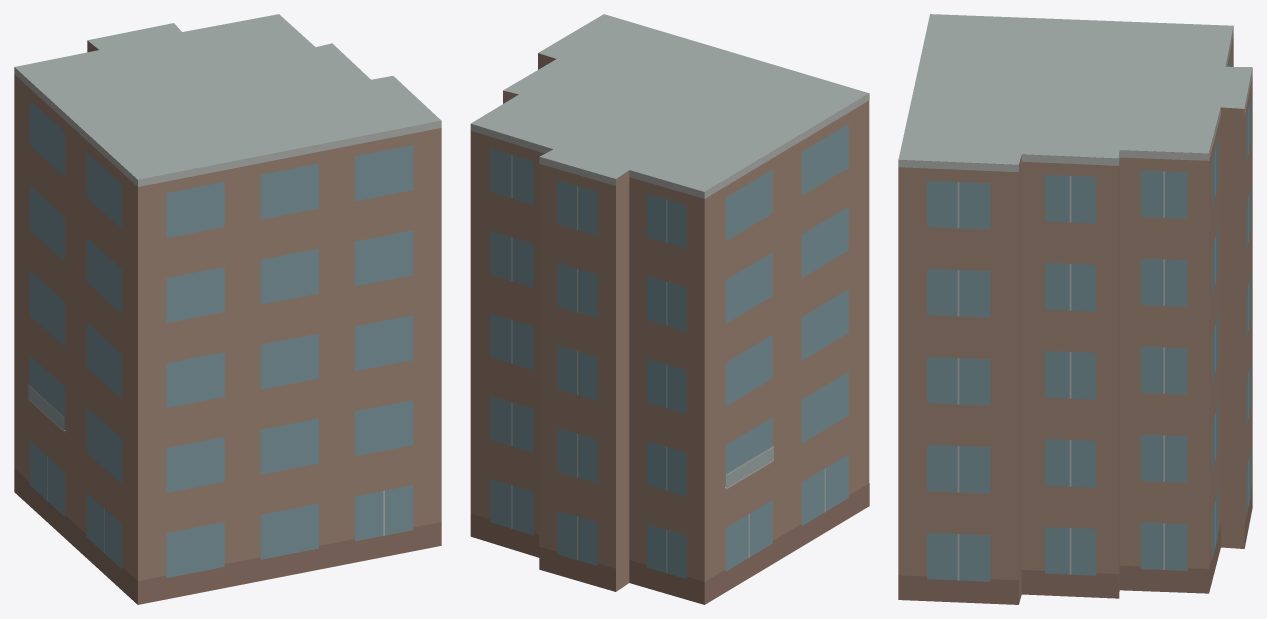
File: survey-upis-32806557.glb
3 views of the same model, side by side, from view 1: azimuth 30°, elevation 25°; view 2: azimuth 150°, elevation 25°; view 3: azimuth 270°, elevation 25° (orthographic). The views are drawn at different scales.
Parts seen in each view (by area): view 1: survey-upis-32806557.tmp; view 2: survey-upis-32806557.tmp; view 3: survey-upis-32806557.tmp.
Part boxes in pixels (left/top/right/bottom): survey-upis-32806557.tmp: left=14, top=14, right=441, bottom=604; survey-upis-32806557.tmp: left=470, top=14, right=869, bottom=604; survey-upis-32806557.tmp: left=898, top=14, right=1252, bottom=604.
Size of the model in its own units: 10.59 by 14.4 by 10.51.
